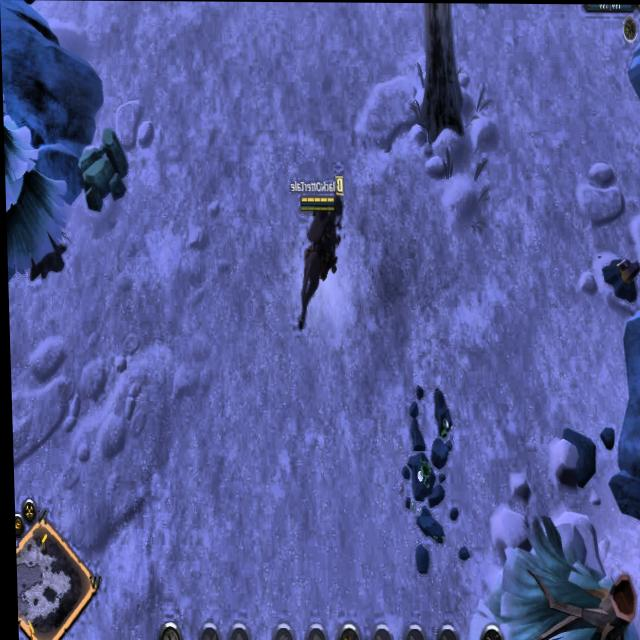copperore: (600, 249, 640, 300)
sandstone: (77, 124, 127, 218)
